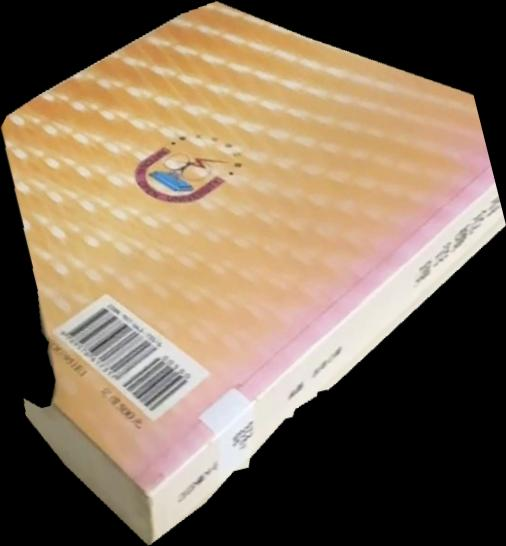flat: (1, 1, 506, 546)
